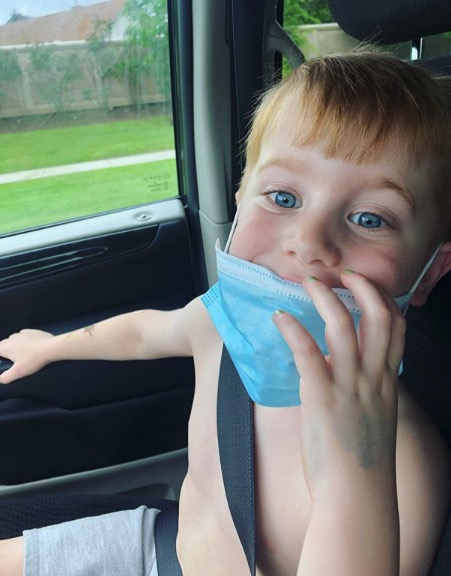mask_weared_incorrect: (233, 159, 418, 360)
